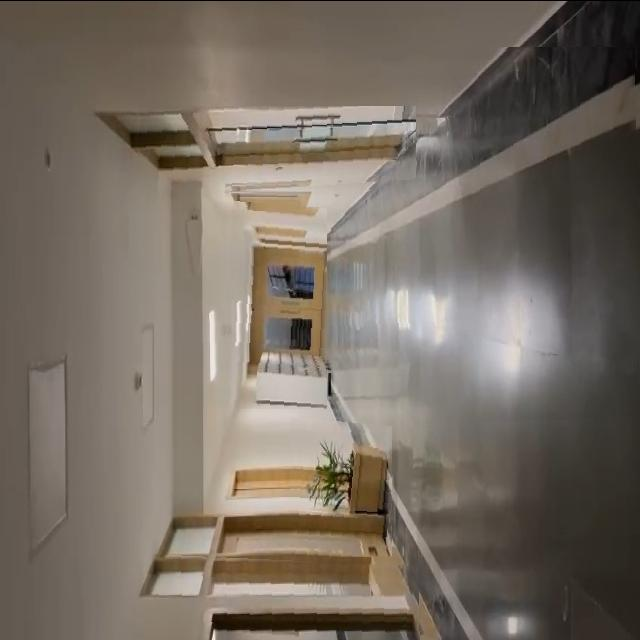door: (133, 105, 416, 197), (126, 552, 420, 640), (222, 200, 327, 408)
floor: (331, 46, 640, 426)
furniture: (289, 417, 392, 556)
